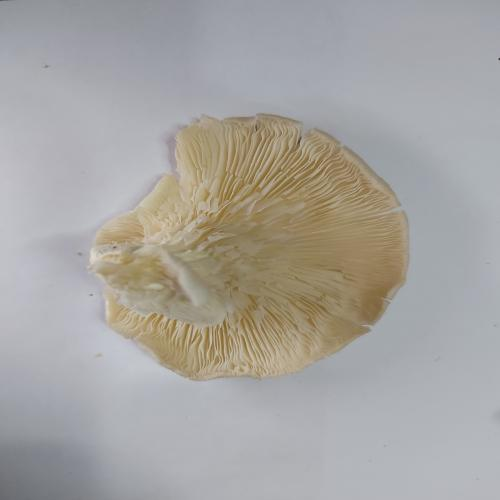Oyster Mushroom: (87, 112, 410, 381)
